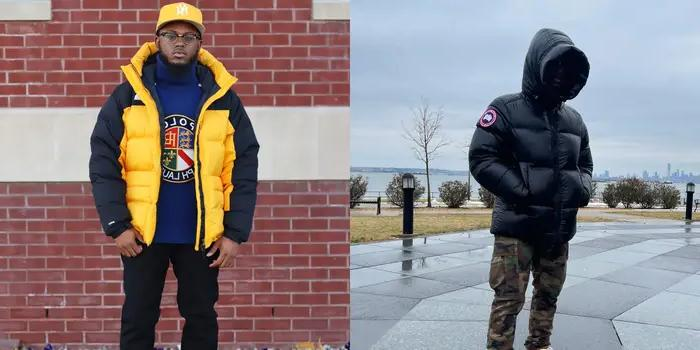coat: (87, 41, 262, 246), (466, 27, 599, 245)
sweater: (144, 56, 207, 247)
trousers: (117, 240, 222, 350), (485, 236, 573, 350)
